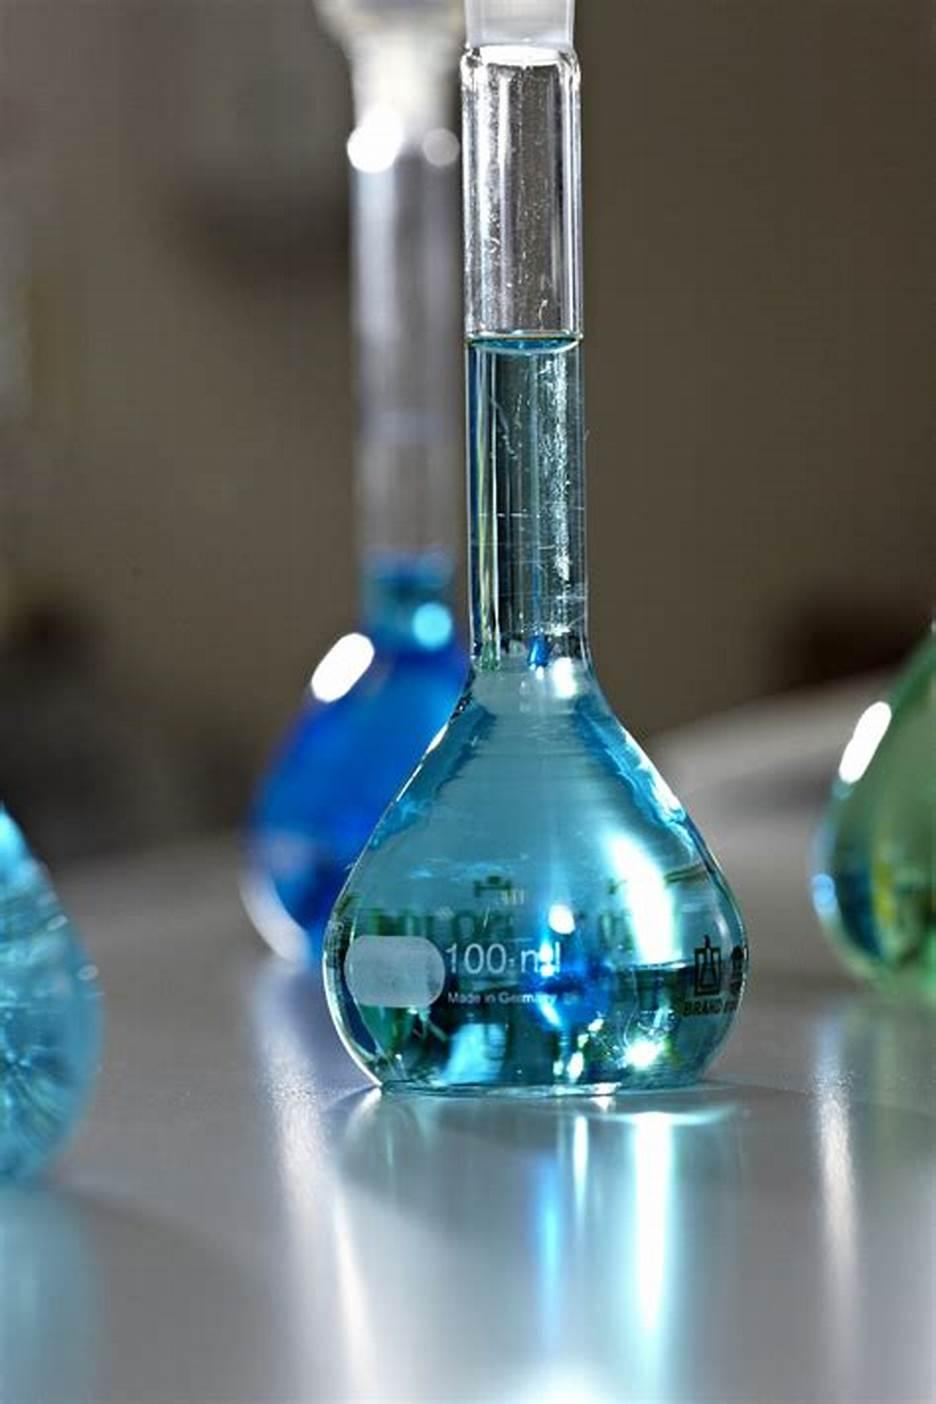Volumetric flask: (319, 32, 760, 1096)
